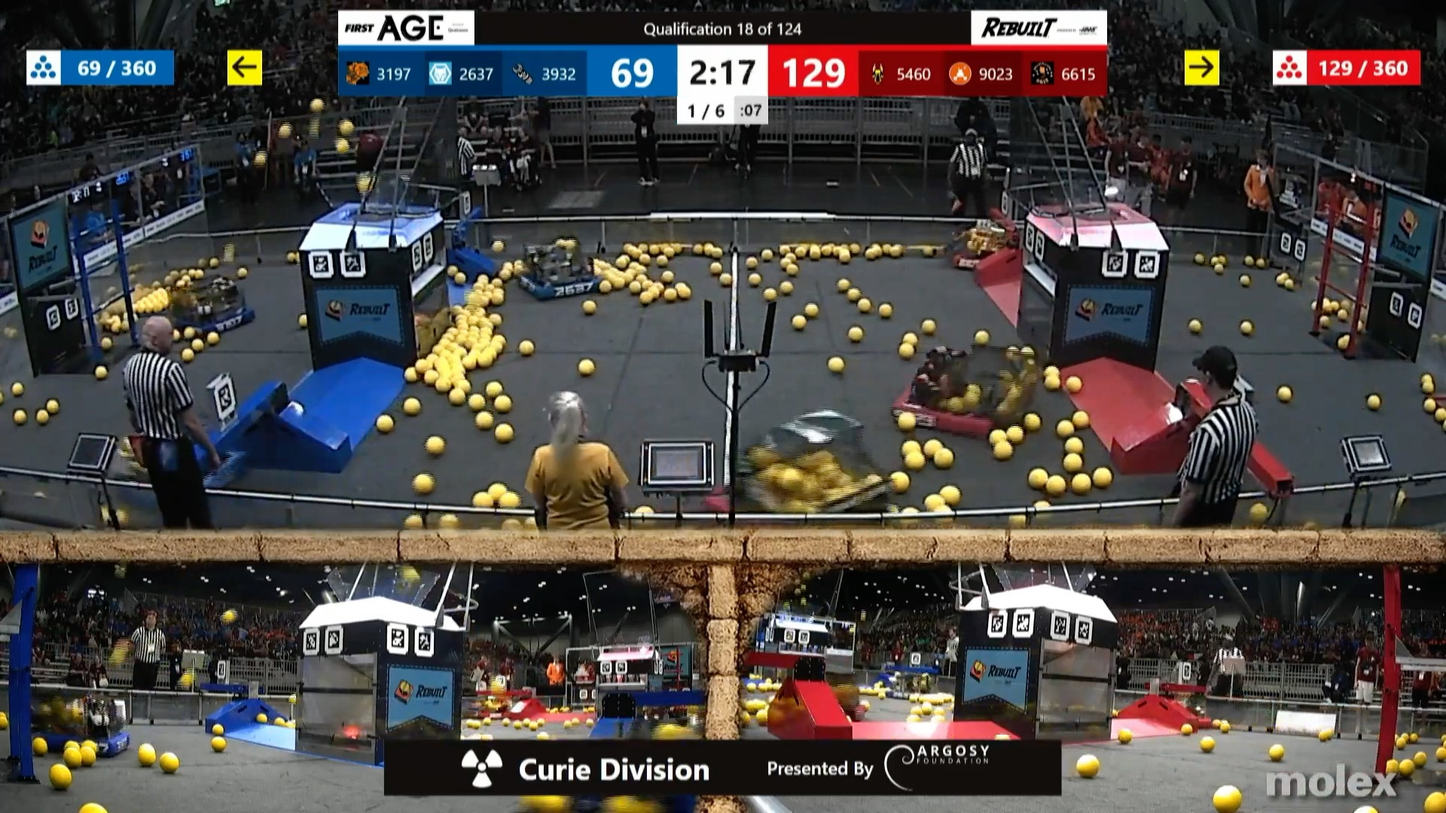bumpers: (708, 473, 897, 527), (892, 383, 1010, 437), (145, 298, 266, 339), (37, 719, 144, 764), (501, 260, 607, 303), (947, 244, 1025, 273)
